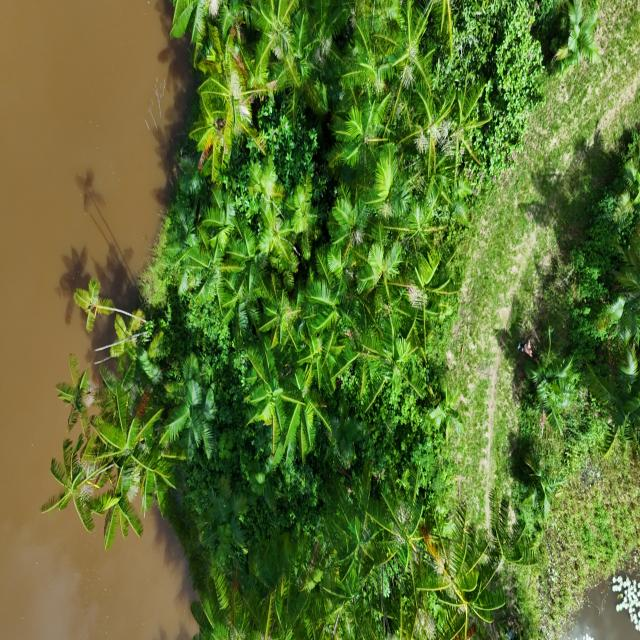vegetation: (40, 1, 630, 637)
